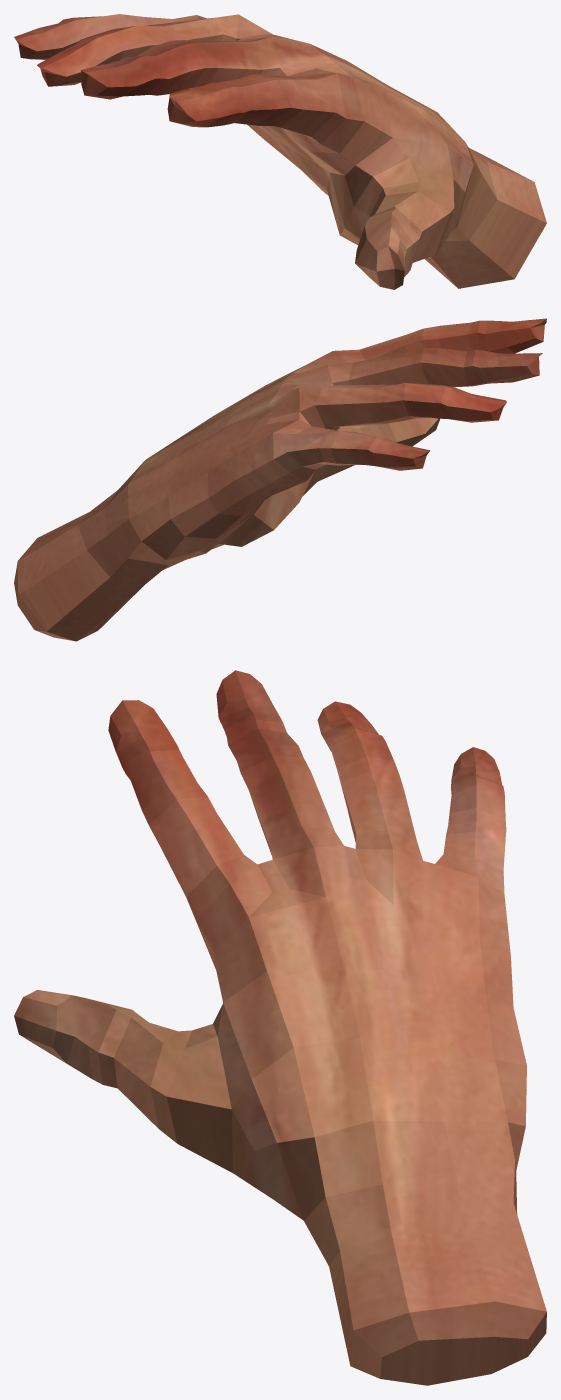
Rendered from hand.fbx.
3 renders of one model, top to bottom at view 1: azimuth 30°, elevation 25°; view 2: azimuth 150°, elevation 25°; view 3: azimuth 270°, elevation 25°, orthographic. The views are drawn at different scales.
Visible parts, largest first — view 1: Plane005; view 2: Plane005; view 3: Plane005.
Part boxes in pixels (x1,y1,x2,y2): Plane005: (14,14,546,289); Plane005: (14,318,546,641); Plane005: (14,670,546,1385).
Bounding box in the file's own units: 88.8 × 61.8 × 66.6.
